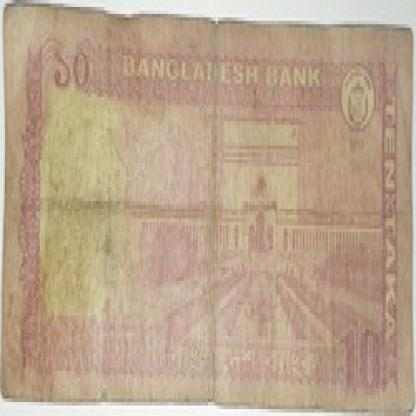Ten Taka: (52, 21, 98, 114), (341, 298, 383, 399)
